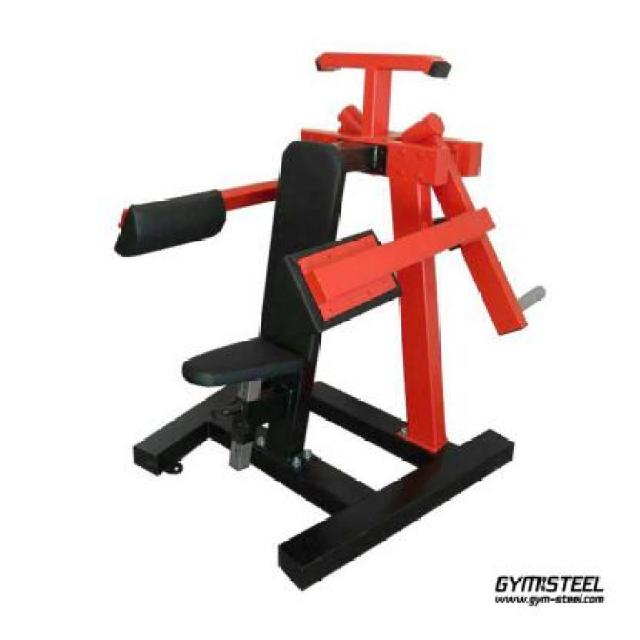lateral raises machine: (114, 51, 548, 589)
